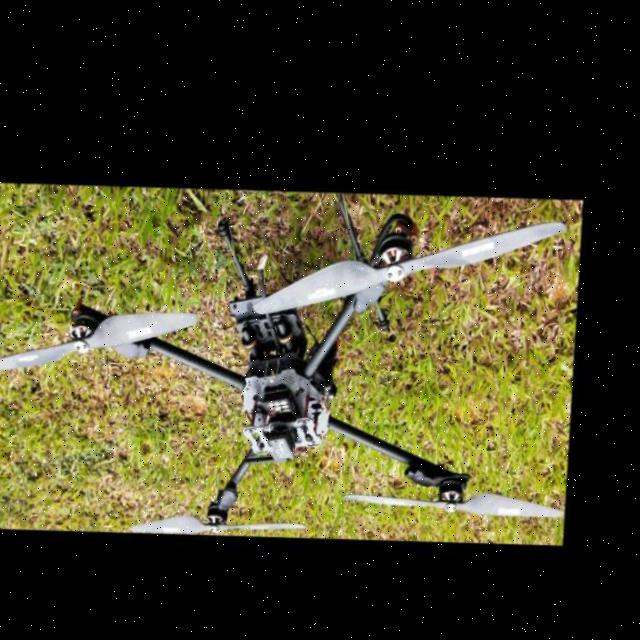drones: (0, 150, 592, 571)
